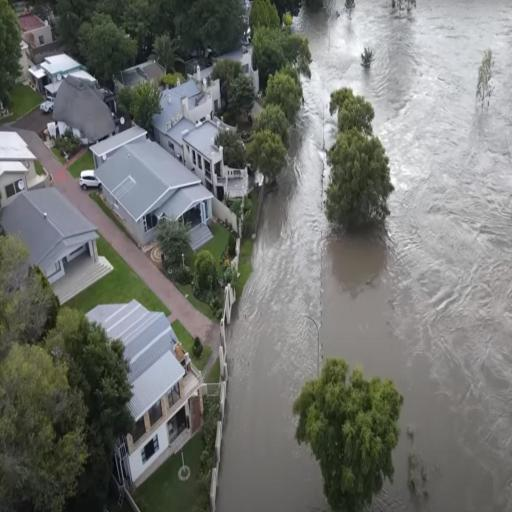flood: (218, 0, 512, 509)
house: (82, 297, 208, 490), (88, 121, 219, 256), (0, 185, 105, 287), (158, 76, 233, 196), (0, 126, 45, 220), (29, 54, 94, 98), (113, 57, 169, 104), (18, 14, 53, 51)
